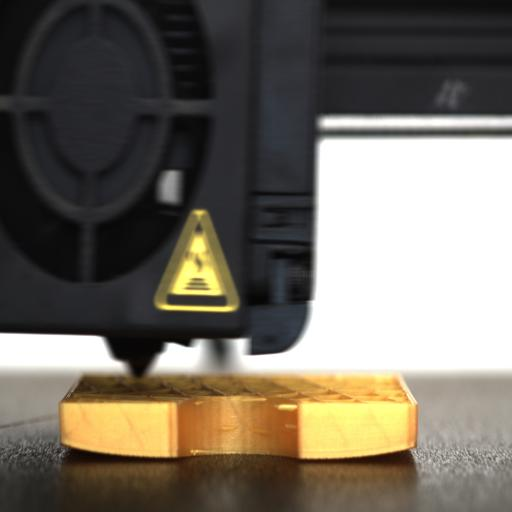warp: (296, 442, 422, 462)
